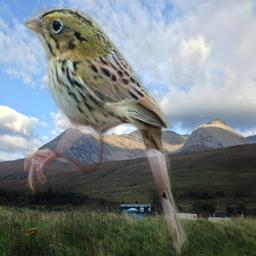Sparrow: (24, 7, 191, 254)
